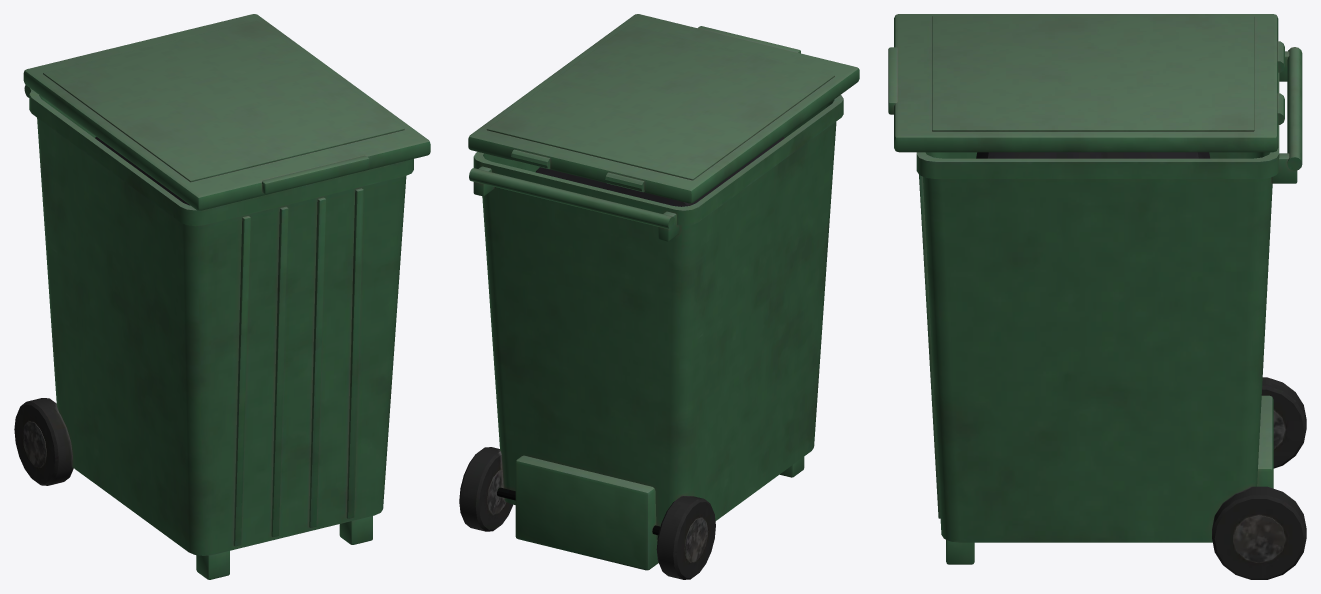
The model's file is lixeira.glb.
The picture shows the model from 3 angles, left to right: view 1: azimuth 30°, elevation 25°; view 2: azimuth 150°, elevation 25°; view 3: azimuth 270°, elevation 25°; orthographic projection. The views are drawn at different scales.
Visible parts, largest first — view 1: corpo, tampa; view 2: corpo, tampa; view 3: corpo, tampa.
Boxes of the visible parts, x1=… form: corpo: x1=14, y1=85, x2=413, y2=579; tampa: x1=23, y1=14, x2=430, y2=210; corpo: x1=459, y1=95, x2=843, y2=579; tampa: x1=468, y1=14, x2=859, y2=203; corpo: x1=916, y1=47, x2=1306, y2=579; tampa: x1=888, y1=14, x2=1284, y2=152.
Bounding box in the file's own units: 0.622 × 1.04 × 0.882.
2 materials, 2 textured.
